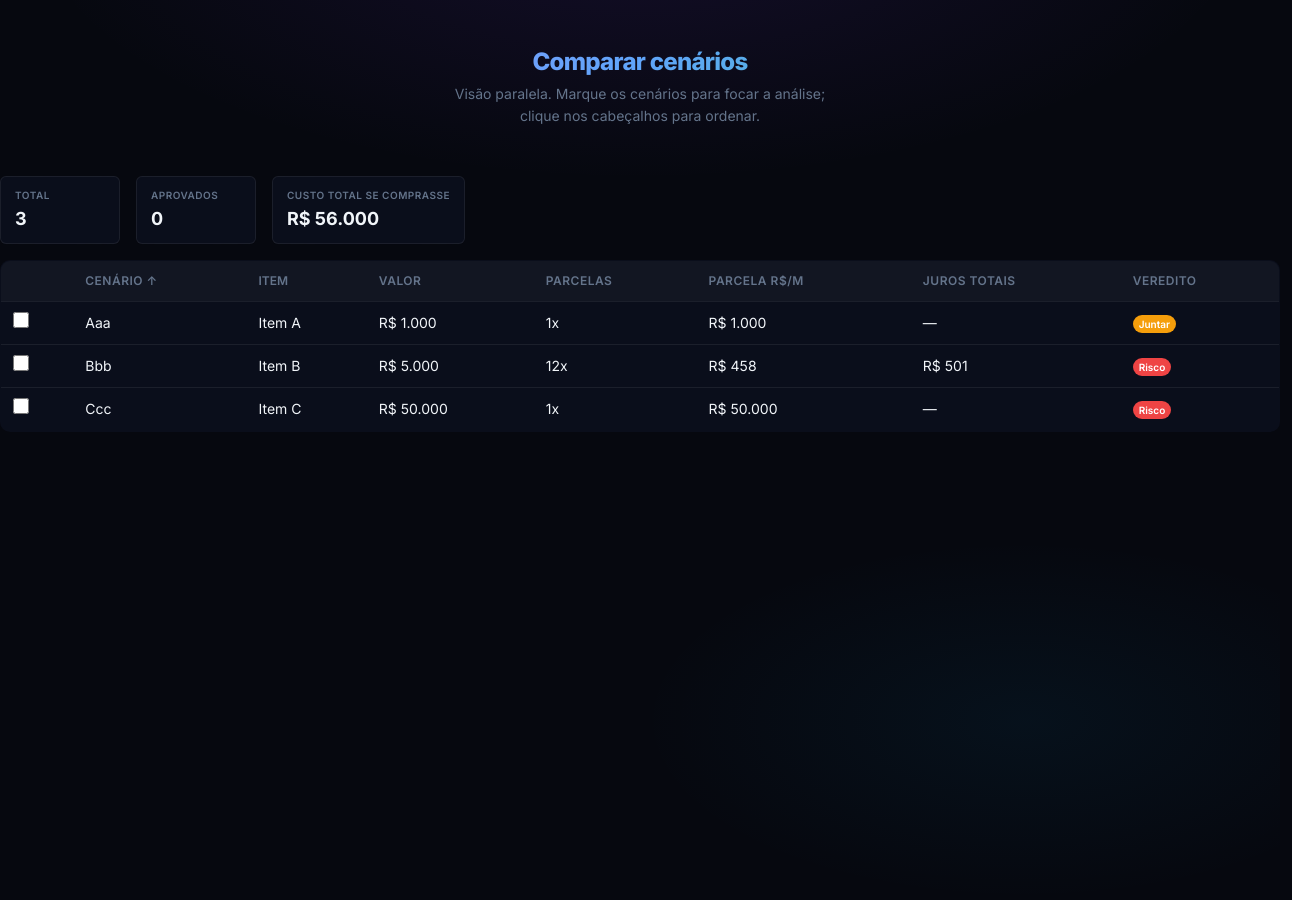
it: CompararPage › filtra tabela quando há seleção
What coordinates should you click on to do the following:
click the checkbox named "Selecionar Bbb"
I would click on:
 (21, 363)
Its box is [13,355,29,371].
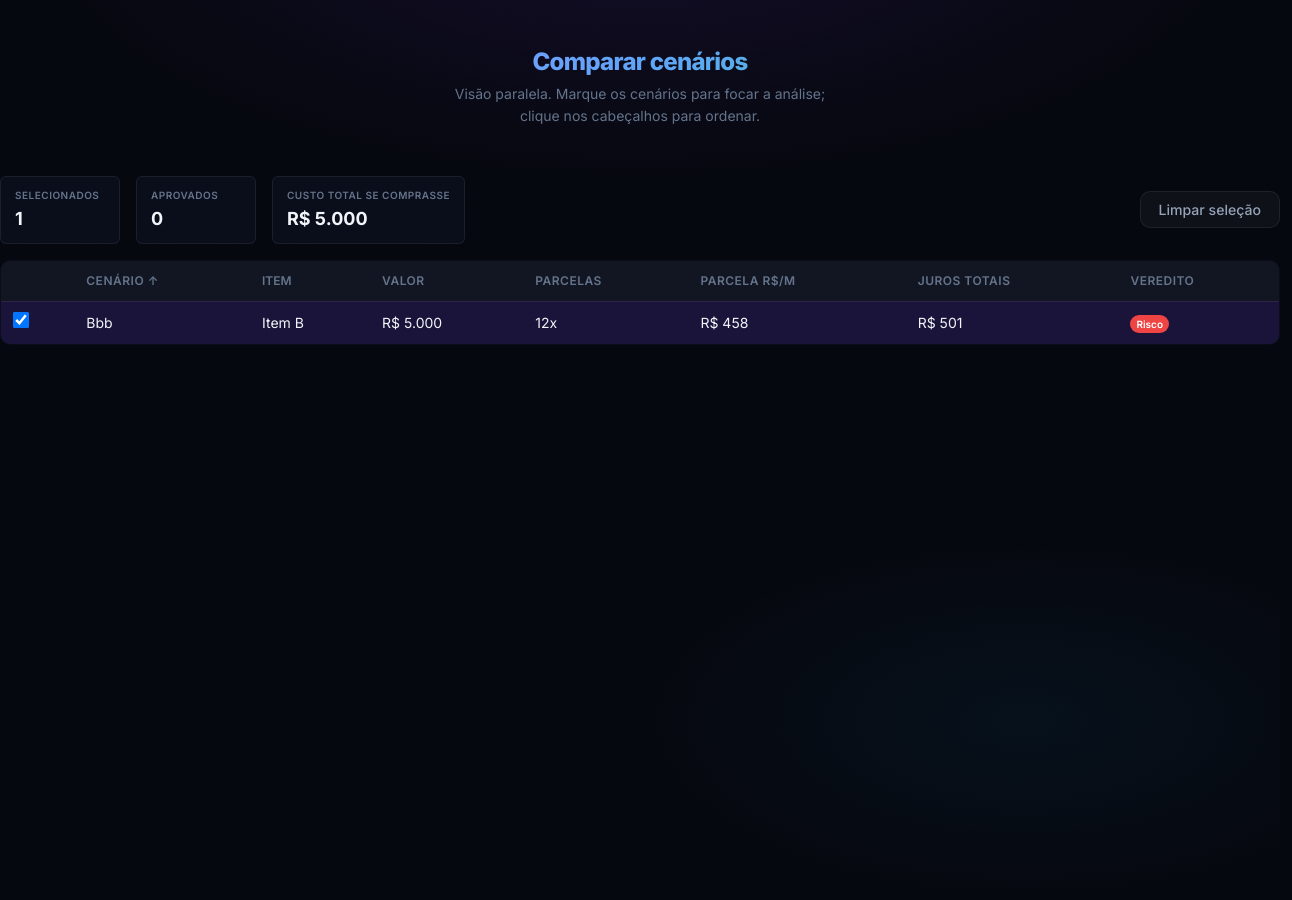
expect the text "Bbb" is shown: met, box [74,301,250,344]
expect the text "Aaa" is gone: met
expect the text "Ccc" is gone: met
